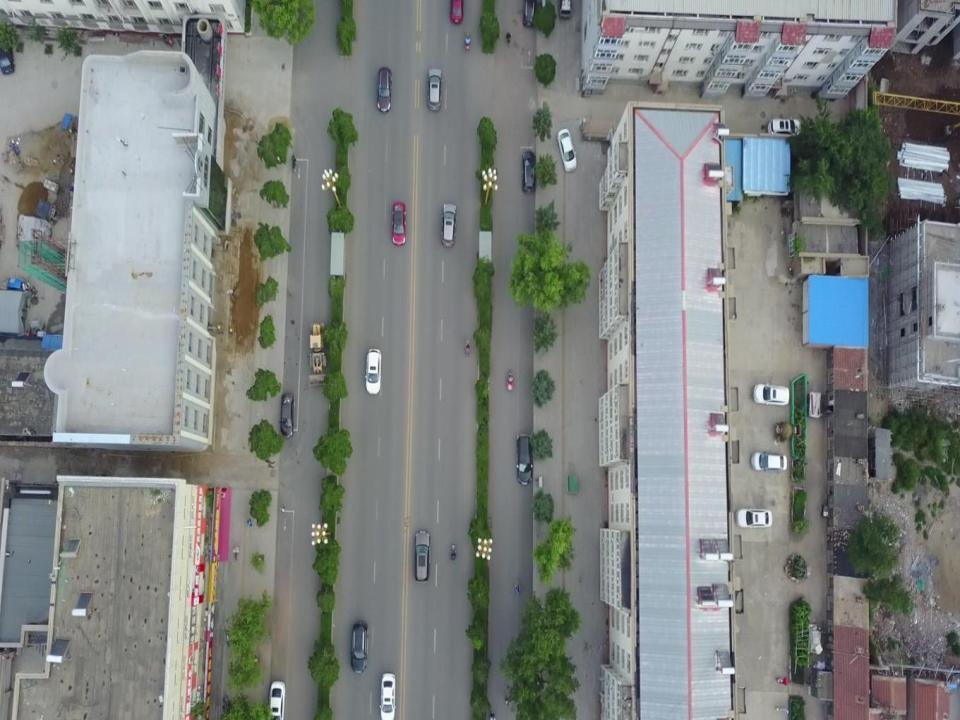car: (516, 432, 534, 486), (350, 620, 368, 673), (752, 382, 790, 407), (378, 673, 398, 720), (556, 127, 576, 173), (414, 530, 431, 582), (734, 507, 772, 530), (750, 451, 788, 473), (365, 348, 382, 396), (376, 67, 393, 112), (267, 680, 286, 720), (426, 68, 444, 110), (391, 200, 407, 246), (278, 392, 294, 437), (766, 116, 802, 136), (440, 204, 456, 248), (521, 150, 536, 194), (0, 39, 15, 75), (522, 0, 536, 28), (449, 0, 463, 24), (515, 579, 521, 597), (451, 543, 457, 561), (465, 339, 470, 357)
